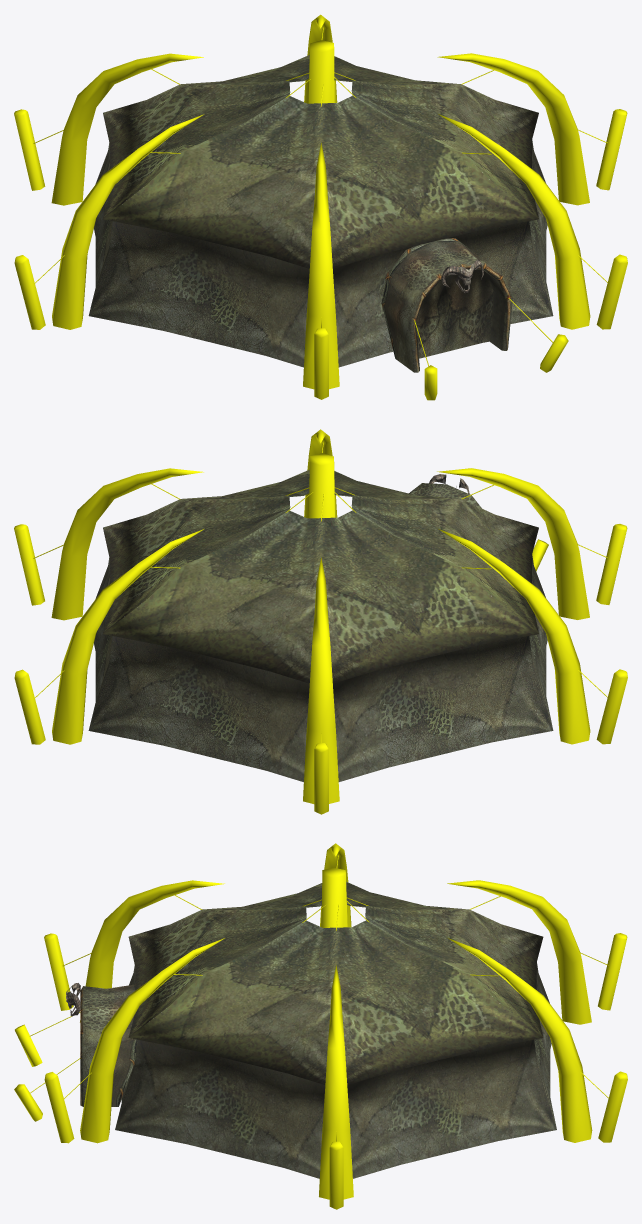
File: e1_sooin_tent02.glb
3 views of the same model, one above another, from view 1: azimuth 30°, elevation 25°; view 2: azimuth 150°, elevation 25°; view 3: azimuth 270°, elevation 25° (orthographic). The views are drawn at different scales.
Visible parts, largest first — view 1: sooin_tent_002; view 2: sooin_tent_002; view 3: sooin_tent_002.
Boxes of the visible parts, x1,y1,x2,y2 form: sooin_tent_002: (14,14,627,400); sooin_tent_002: (14,429,627,814); sooin_tent_002: (14,843,627,1209).
Size of the model in its own units: 22.21 by 7.86 by 20.25.
Materials: 4 (4 with a texture image).
